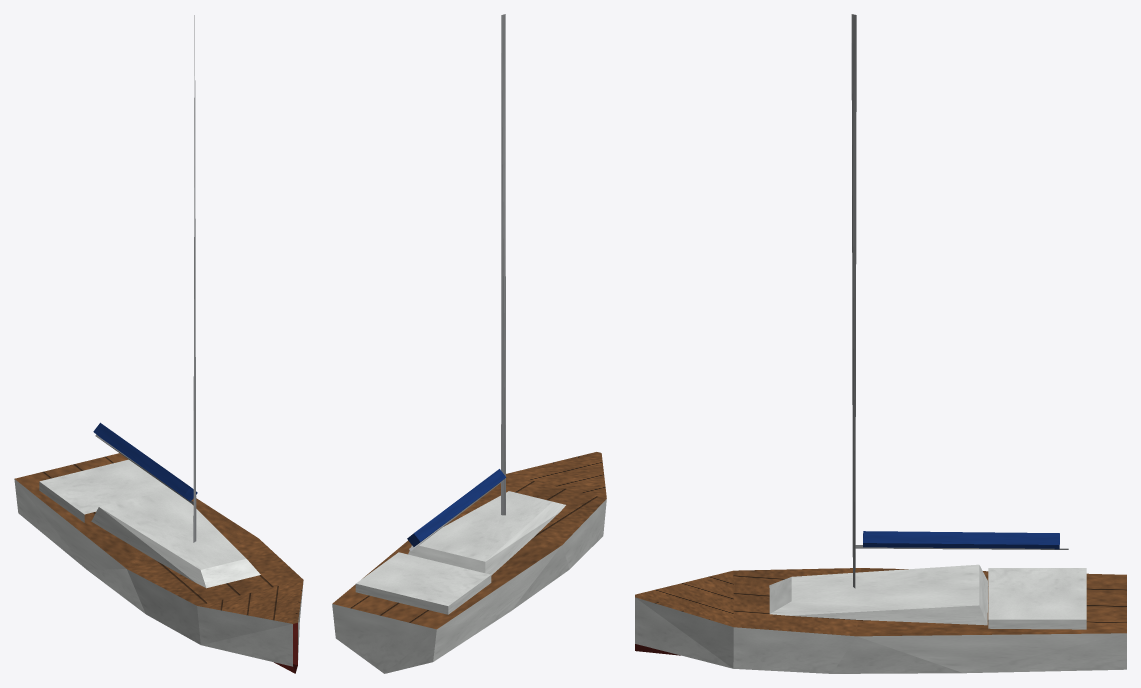
The model's file is SM_Mirabello_YachtB_v2_LOD2.fbx.
The picture shows the model from 3 angles, left to right: view 1: azimuth 30°, elevation 25°; view 2: azimuth 150°, elevation 25°; view 3: azimuth 270°, elevation 25°; orthographic projection. The views are drawn at different scales.
Visible parts, largest first — view 1: SM_Mirabello_YachtB_v2_LOD2; view 2: SM_Mirabello_YachtB_v2_LOD2; view 3: SM_Mirabello_YachtB_v2_LOD2.
Boxes of the visible parts, x1,y1,x2,y2 form: SM_Mirabello_YachtB_v2_LOD2: (14, 15, 303, 673); SM_Mirabello_YachtB_v2_LOD2: (332, 14, 606, 673); SM_Mirabello_YachtB_v2_LOD2: (635, 14, 1126, 673).
Bounding box in the file's own units: 365 × 1100 × 1621.
1 material, 1 textured.
